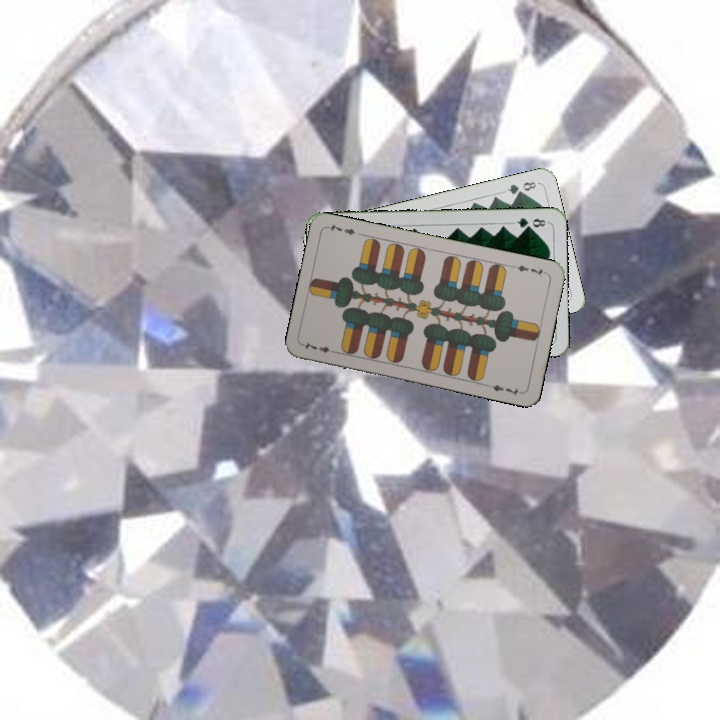E7: (509, 261, 549, 279), (300, 338, 340, 356)
G8: (503, 177, 539, 197), (510, 214, 550, 231)
